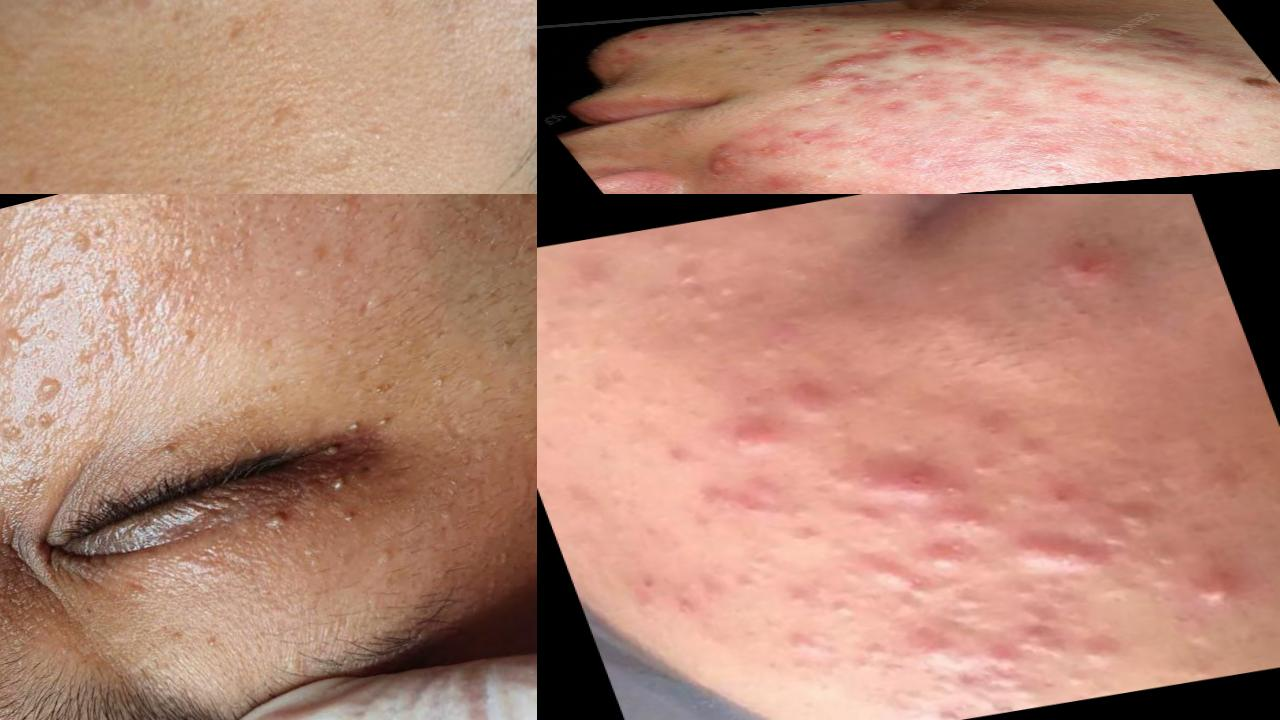blackhead: (698, 41, 744, 58), (769, 63, 821, 77), (745, 45, 795, 59), (795, 90, 838, 102), (729, 62, 769, 74), (787, 37, 822, 47), (669, 29, 703, 38), (715, 26, 743, 36), (755, 72, 786, 81), (841, 45, 869, 53), (755, 59, 782, 67), (794, 18, 820, 26), (840, 33, 865, 41), (751, 18, 776, 25), (798, 31, 820, 38)
flat_wart: (1, 359, 84, 460), (190, 195, 282, 274), (64, 315, 157, 386), (245, 90, 317, 153), (45, 218, 123, 270), (304, 195, 360, 234), (1, 316, 35, 368)
keloid: (1029, 16, 1111, 36), (944, 18, 1032, 34)
milium: (320, 464, 371, 514), (421, 360, 454, 396), (375, 405, 397, 434)
papular: (1017, 235, 1134, 305), (899, 520, 987, 574), (758, 372, 832, 425), (723, 408, 778, 459), (770, 126, 828, 141)
purulent: (1183, 564, 1257, 612), (869, 26, 928, 43), (876, 85, 919, 96), (901, 72, 934, 82)
sebo-crystan-conglo: (838, 463, 955, 515), (1003, 524, 1092, 572), (666, 137, 768, 178), (798, 72, 888, 89), (817, 52, 890, 71), (905, 43, 952, 57)
syringoma: (1, 468, 29, 605)
whitehead: (834, 375, 899, 422), (641, 222, 710, 265), (806, 582, 869, 626), (1131, 535, 1196, 575), (906, 636, 969, 676), (985, 673, 1051, 710), (964, 443, 1013, 491), (936, 585, 999, 618), (1060, 663, 1110, 701), (653, 265, 707, 290), (658, 291, 710, 314), (1018, 437, 1052, 467), (1175, 152, 1236, 168), (1145, 137, 1199, 154), (686, 308, 727, 328), (1245, 113, 1280, 136), (806, 168, 849, 183), (619, 91, 668, 104)
